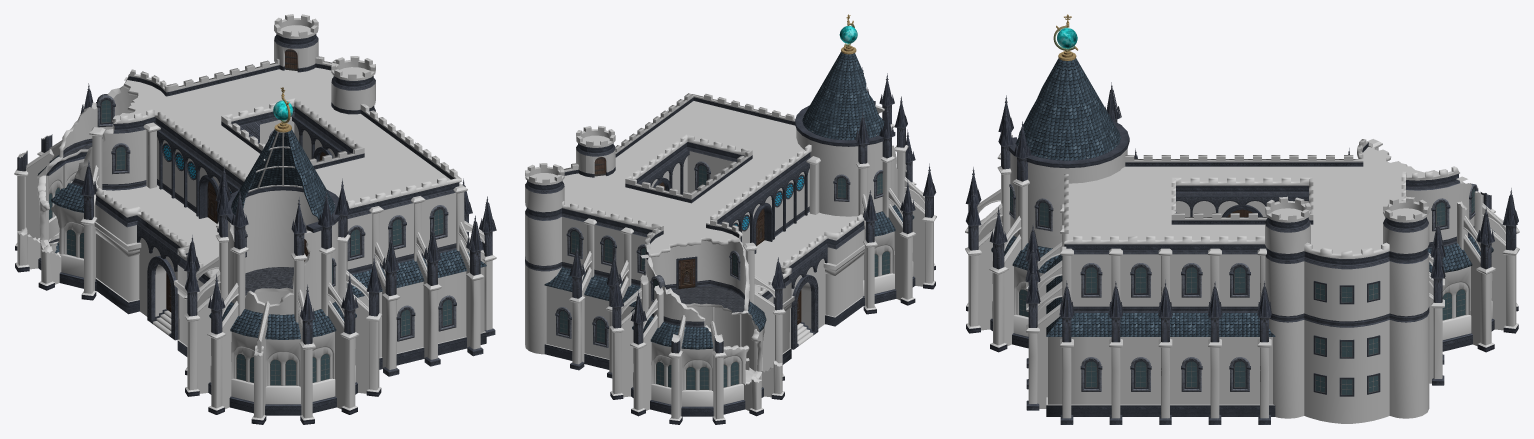
The model's file is conferenceroom.dae.
3 renders of one model, left to right at view 1: azimuth 30°, elevation 25°; view 2: azimuth 150°, elevation 25°; view 3: azimuth 270°, elevation 25°, orthographic. The views are drawn at different scales.
Parts seen in each view (by area): view 1: set_conference-geom-P1, set_conference-geom-P8, set_conference-geom-P11, set_conference-geom-P4, set_conference-geom-P16, set_conference-geom-P0, set_conference-geom-P5, set_conference-geom-P2, set_conference-geom-P6, set_conference-geom-P10, set_conference-geom-P15, set_conference-geom-P7 (+4 smaller); view 2: set_conference-geom-P1, set_conference-geom-P8, set_conference-geom-P4, set_conference-geom-P11, set_conference-geom-P0, set_conference-geom-P5, set_conference-geom-P16, set_conference-geom-P2, set_conference-geom-P6, set_conference-geom-P10, set_conference-geom-P9, set_conference-geom-P7 (+4 smaller); view 3: set_conference-geom-P1, set_conference-geom-P8, set_conference-geom-P4, set_conference-geom-P0, set_conference-geom-P5, set_conference-geom-P16, set_conference-geom-P11, set_conference-geom-P2, set_conference-geom-P6, set_conference-geom-P15, set_conference-geom-P18.
Part boxes in pixels (x1,y1,x2,y2): set_conference-geom-P1: (26,14,492,404); set_conference-geom-P8: (49,25,450,274); set_conference-geom-P11: (17,144,379,418); set_conference-geom-P4: (38,34,486,415); set_conference-geom-P16: (17,83,495,344); set_conference-geom-P0: (37,129,486,339); set_conference-geom-P5: (49,49,456,385); set_conference-geom-P2: (63,35,495,376); set_conference-geom-P6: (14,77,496,420); set_conference-geom-P10: (17,74,311,356); set_conference-geom-P15: (80,90,496,271); set_conference-geom-P7: (147,256,178,340); set_conference-geom-P1: (525,93,924,406); set_conference-geom-P8: (532,101,857,373); set_conference-geom-P4: (526,97,915,416); set_conference-geom-P11: (612,188,933,418); set_conference-geom-P0: (544,52,914,349); set_conference-geom-P5: (556,157,890,389); set_conference-geom-P16: (569,67,936,353); set_conference-geom-P2: (525,142,864,378); set_conference-geom-P6: (545,123,936,420); set_conference-geom-P10: (640,105,897,385); set_conference-geom-P9: (672,285,744,312); set_conference-geom-P7: (791,274,818,349); set_conference-geom-P1: (977,136,1505,423); set_conference-geom-P8: (1068,147,1438,253); set_conference-geom-P4: (990,138,1494,416); set_conference-geom-P0: (990,58,1494,336); set_conference-geom-P5: (1009,183,1477,394); set_conference-geom-P16: (965,82,1518,342); set_conference-geom-P11: (968,216,1516,346); set_conference-geom-P2: (1026,173,1474,424); set_conference-geom-P6: (965,139,1519,405); set_conference-geom-P15: (1025,90,1517,315); set_conference-geom-P18: (1009,121,1129,164).
Bounding box in the file's own units: 24.48 × 23.88 × 38.53.
